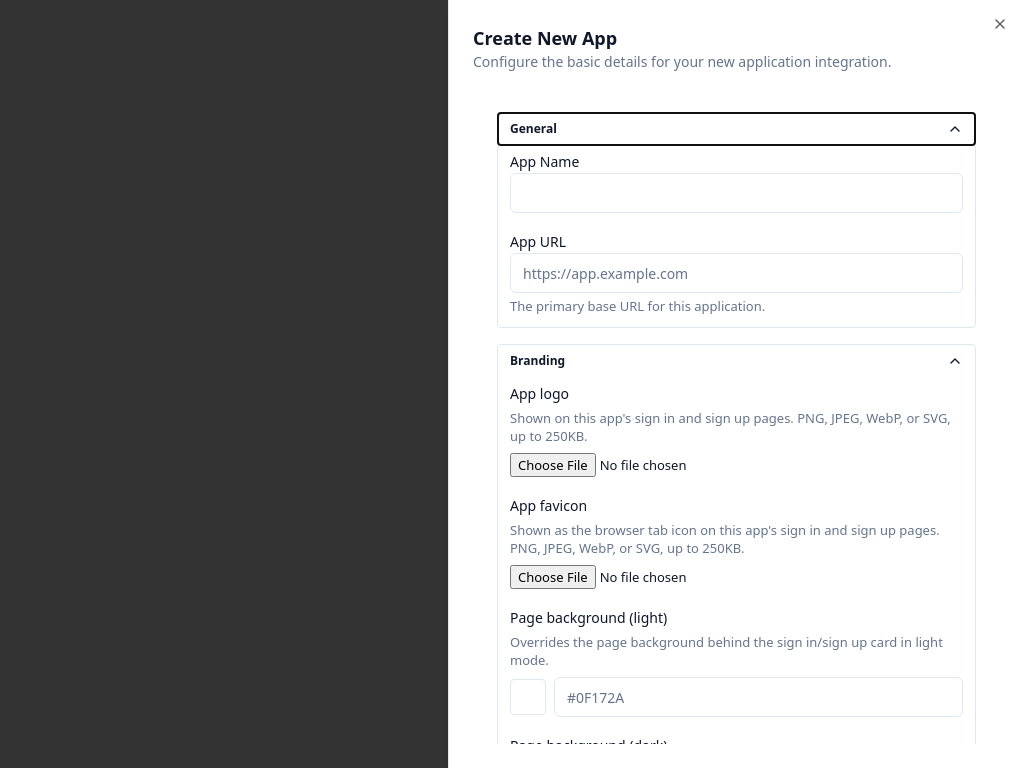
Test: AppCreateDrawer › surfaces 409 nameExists error inline
Type "Dup" into the field labelled "App Name" at coordinates (736, 193), box [510, 173, 963, 213]
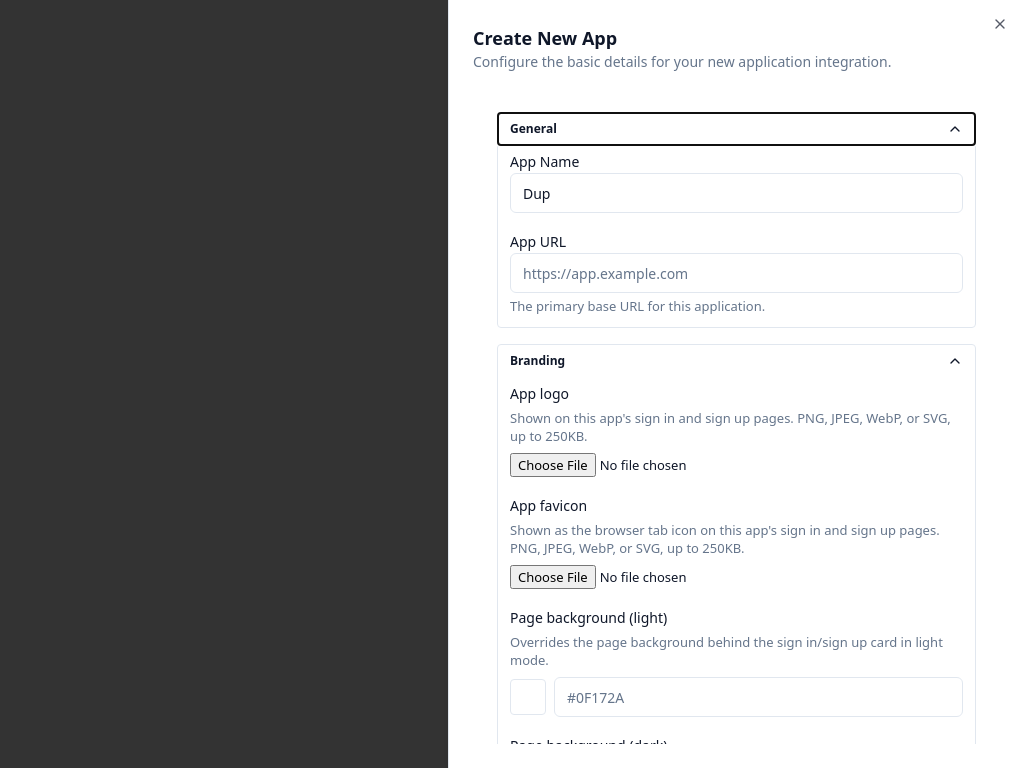
Type "https://x.example" into the field labelled "App URL" at coordinates (736, 273), box [510, 253, 963, 293]
(page scrolled)
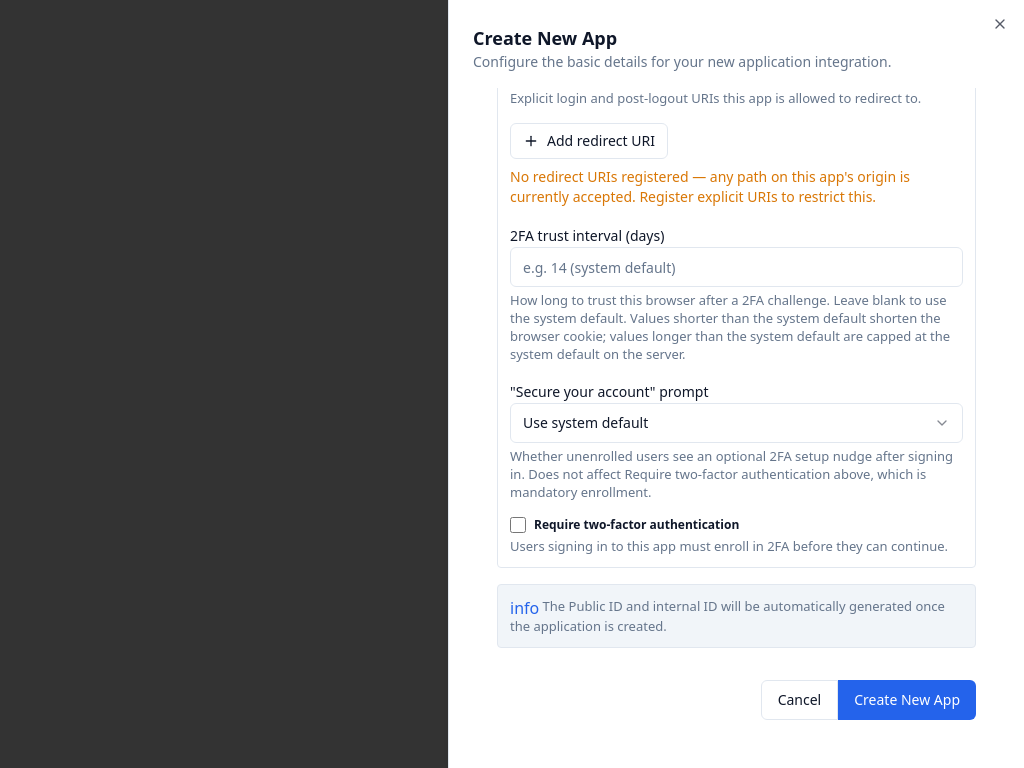
Click the button "Create New App" at coordinates (907, 700), box [838, 680, 976, 720]
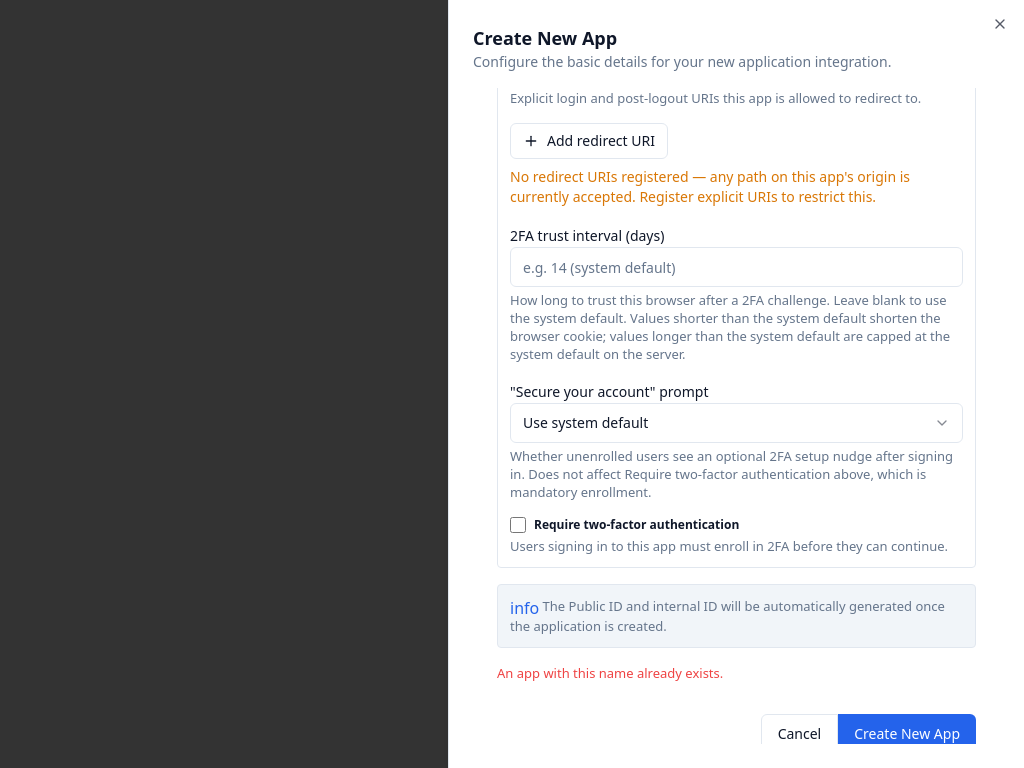
Now the text "An app with this name already exists." is shown, box [497, 664, 723, 682]
